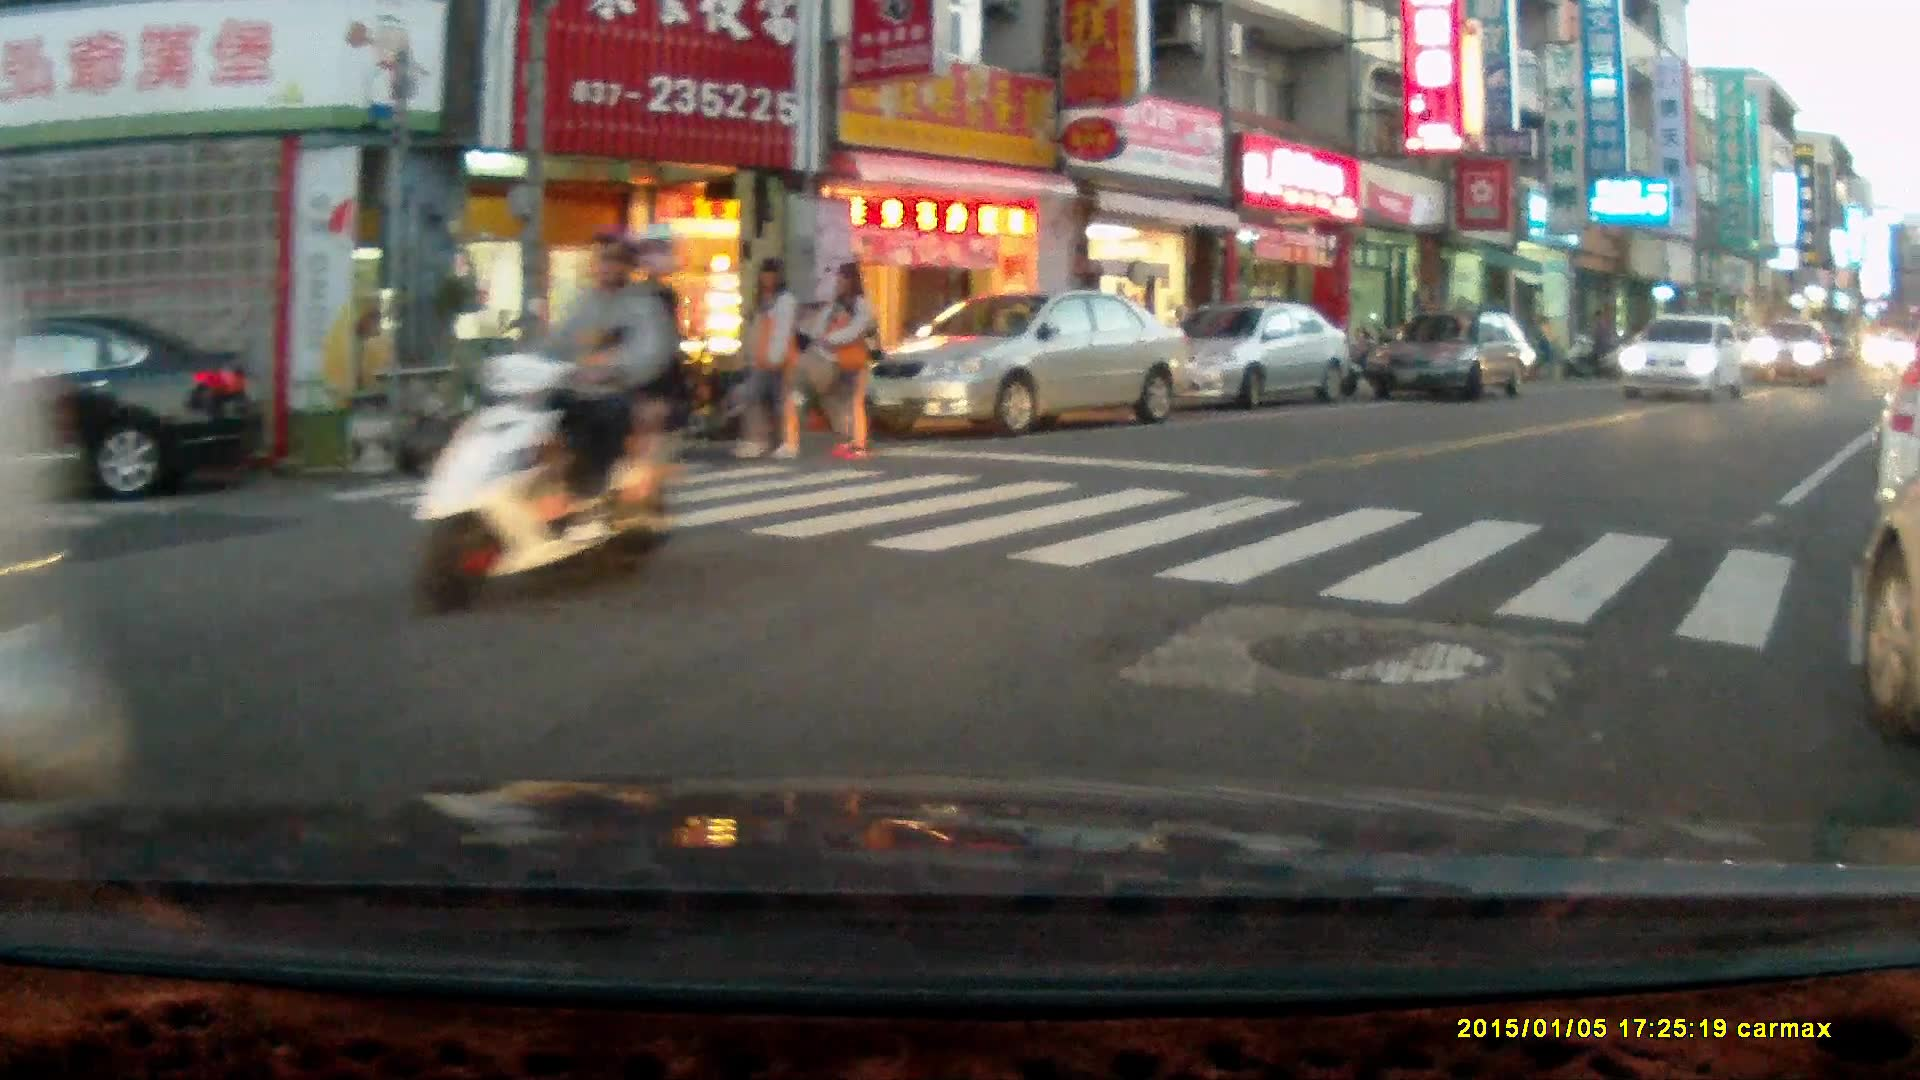pedestrian: (724, 258, 808, 462), (806, 259, 879, 462)
rider: (405, 221, 683, 616)
vehicle: (2, 309, 278, 504), (848, 292, 1193, 438), (1142, 300, 1354, 413), (1368, 311, 1542, 405), (1617, 314, 1749, 401), (1743, 318, 1839, 389)
